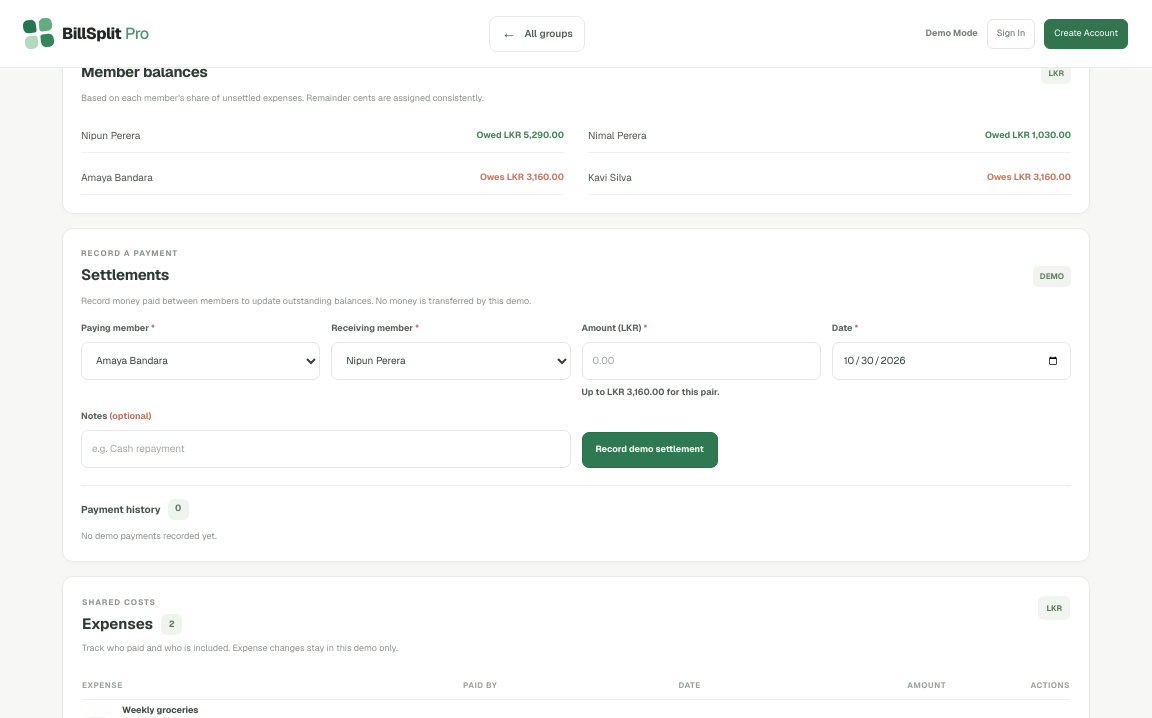
Test case: group management screens › records a partial payment and updates balances and payment history
(page scrolled)
Step 1. Type "100.00" into the field labelled "Amount (LKR) * Up to LKR 3,160.00 for this pair." → x=701, y=360, box x1=582 y1=342 x2=821 y2=380
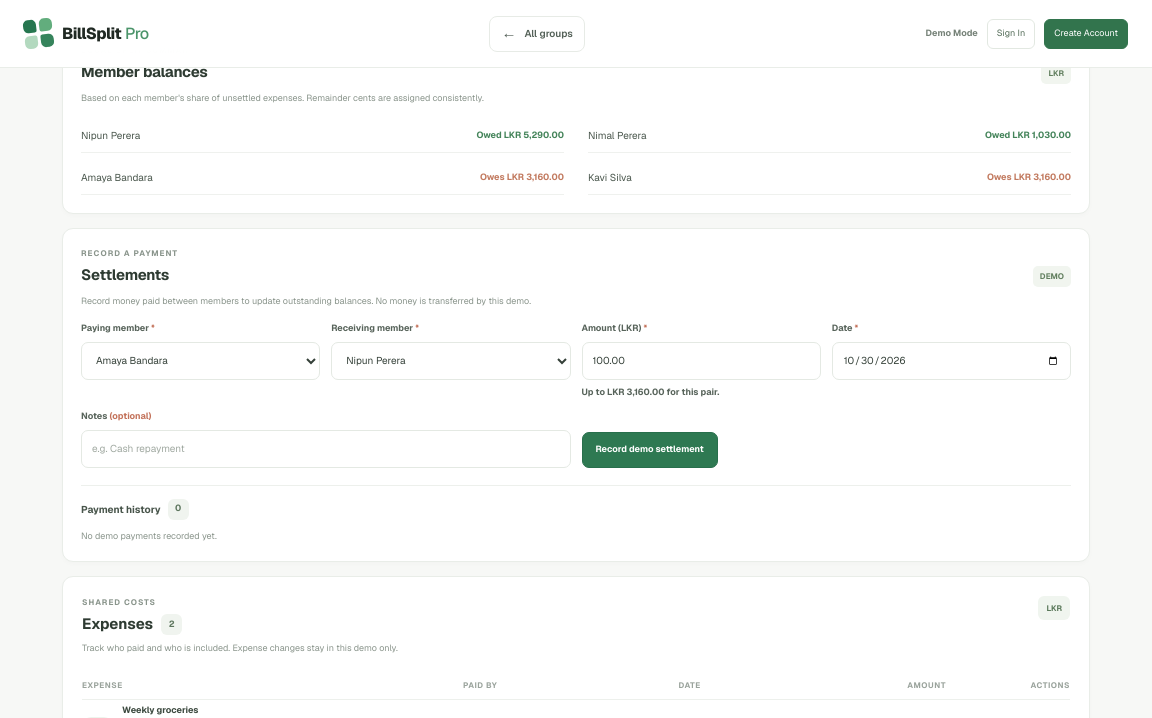
Step 2. Click the button "Record demo settlement" → x=650, y=450, box x1=582 y1=432 x2=718 y2=468
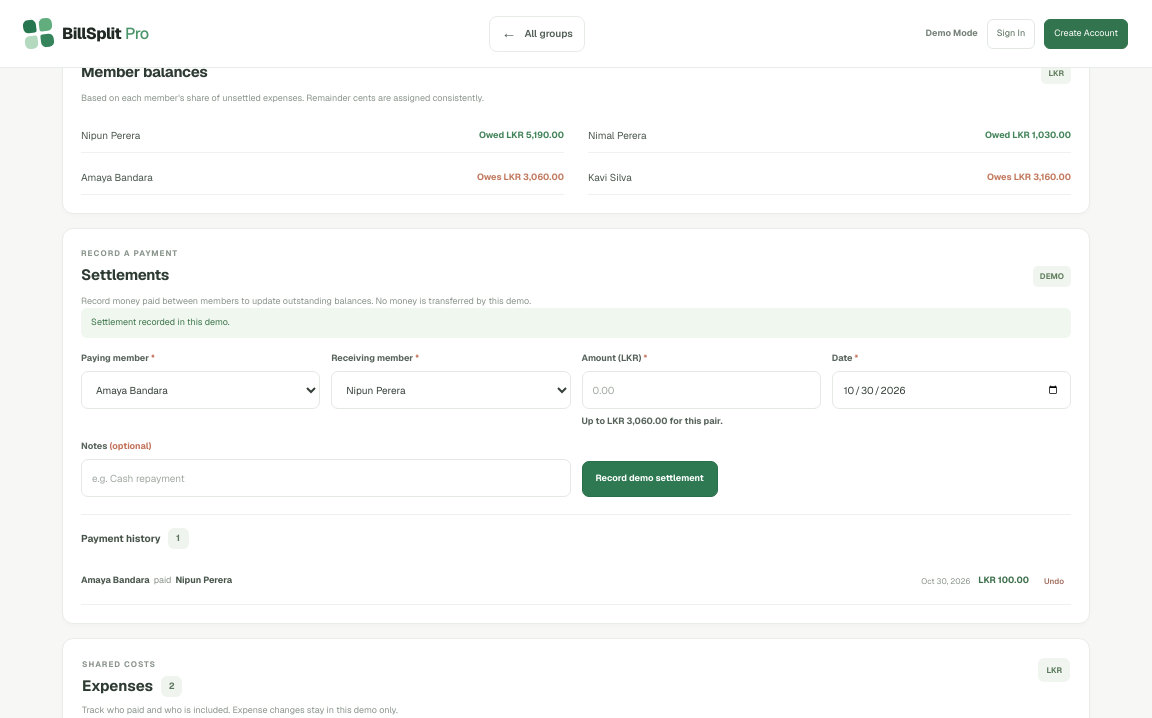
Check: the text "Settlement recorded in this demo." is shown, box x1=81 y1=308 x2=1071 y2=338
Check: the text "Owed LKR 5,190.00" is shown, box x1=479 y1=129 x2=564 y2=142
Check: the text "Owes LKR 3,060.00" is shown, box x1=477 y1=171 x2=564 y2=184
